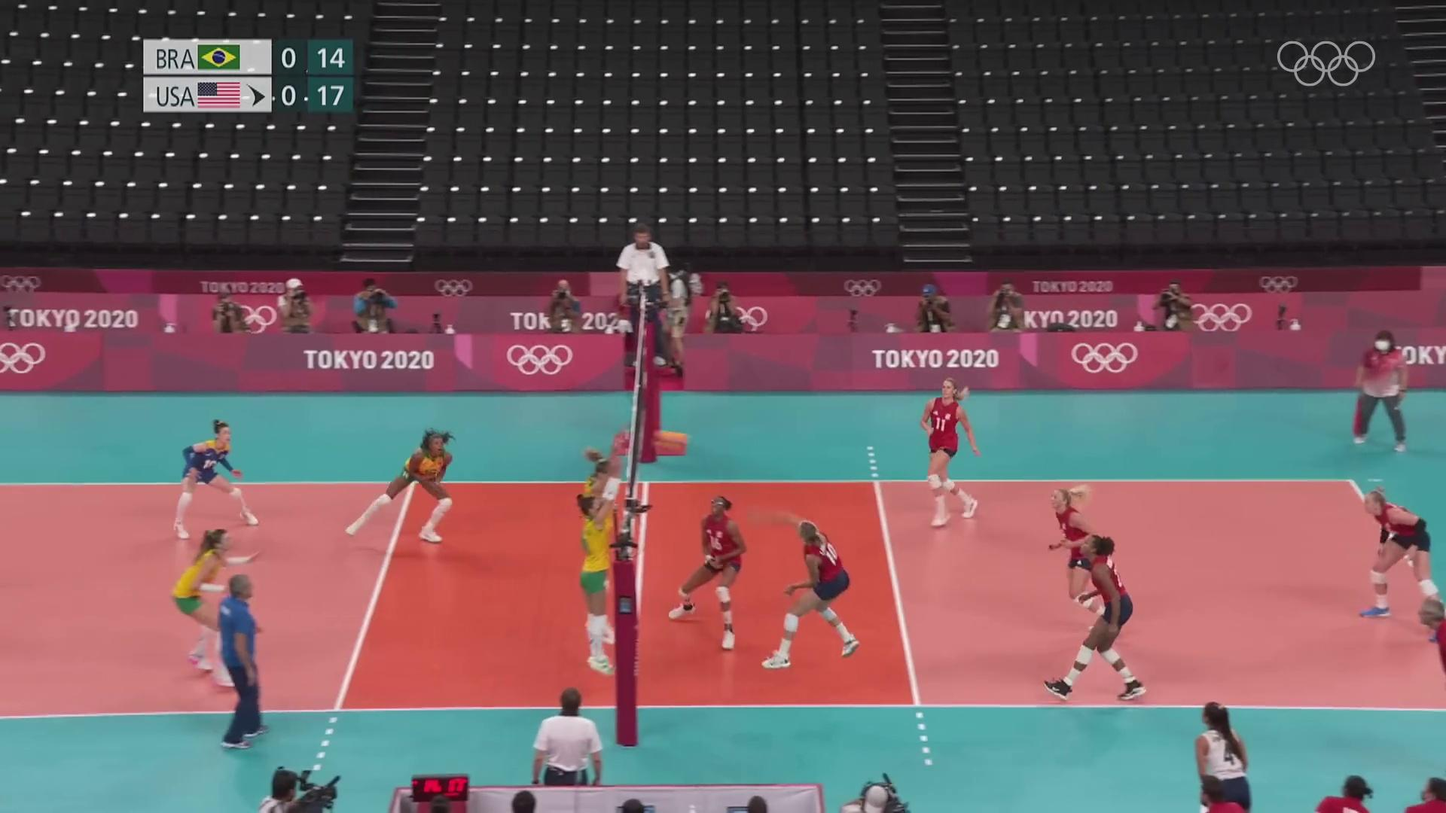player: (1041, 534, 1143, 704), (761, 518, 866, 672), (341, 432, 459, 547), (175, 527, 259, 687), (1046, 486, 1132, 642), (670, 494, 749, 652), (576, 456, 631, 678), (1359, 491, 1445, 625), (175, 417, 261, 536), (916, 377, 982, 528), (586, 448, 620, 643)
refree: (533, 687, 606, 799), (1350, 327, 1411, 458), (617, 224, 672, 366)
